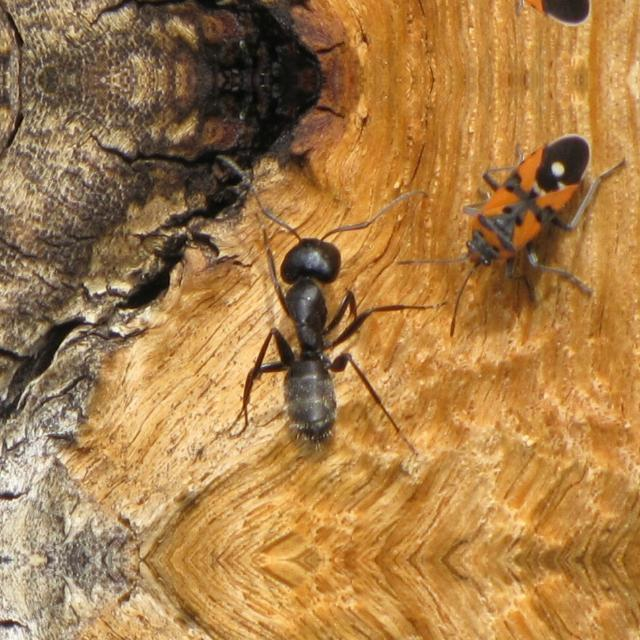Camponotus: (233, 182, 412, 464)
